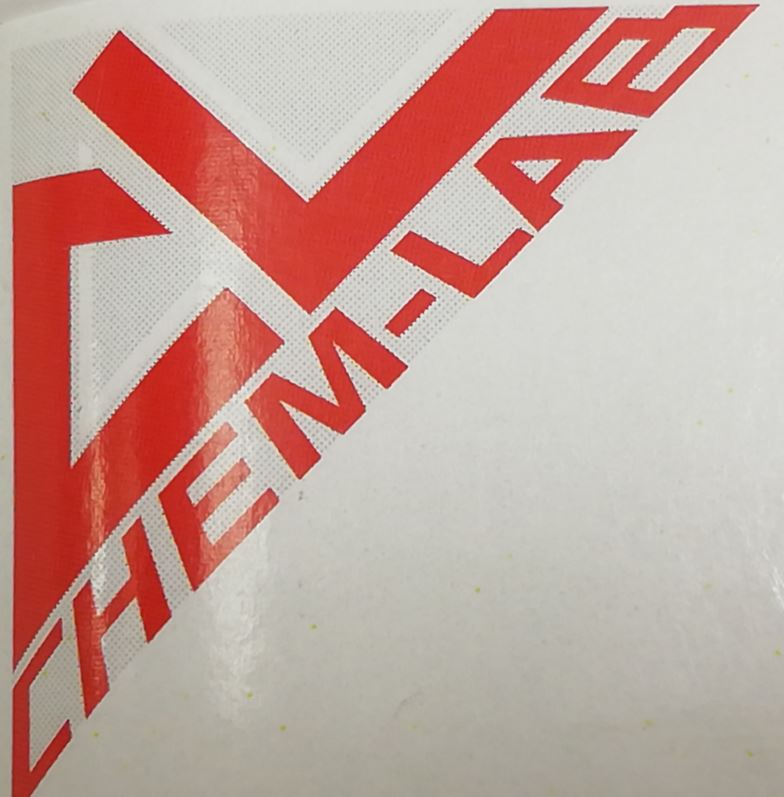ChemLab: (9, 1, 761, 795)
